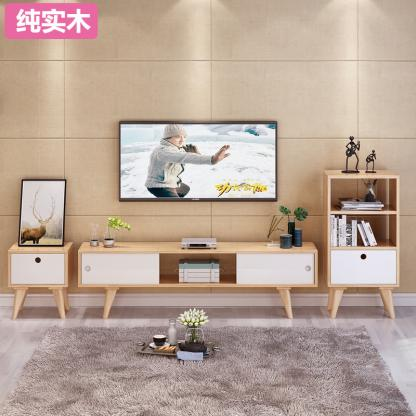Carpet: (0, 323, 413, 416)
Sideboard: (326, 176, 400, 320)
TV stand: (75, 237, 318, 321)
